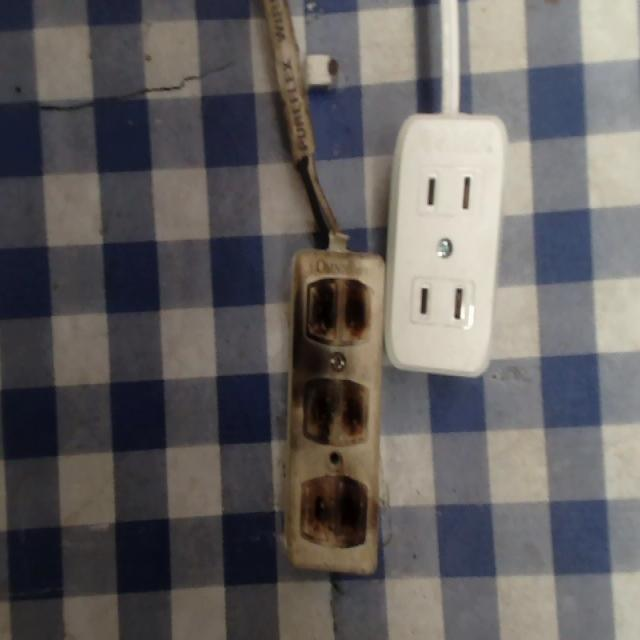-: (295, 472, 371, 564), (295, 269, 383, 348), (295, 364, 371, 449)
